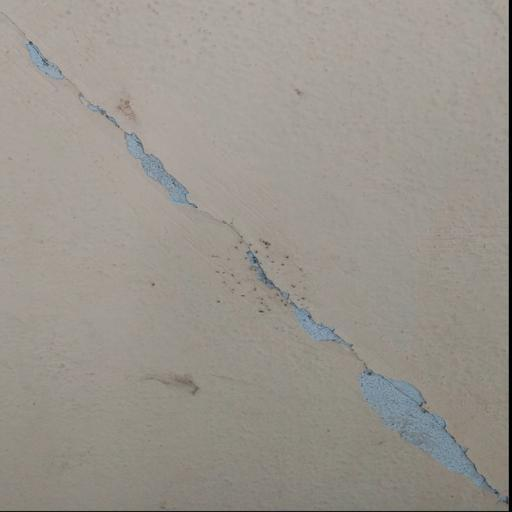peeling: (351, 338, 512, 512), (236, 230, 367, 360), (113, 117, 216, 223), (62, 72, 129, 140), (12, 27, 80, 85)
